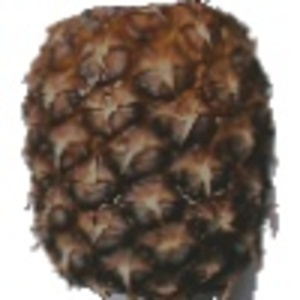abacaxi: (17, 4, 283, 298)
